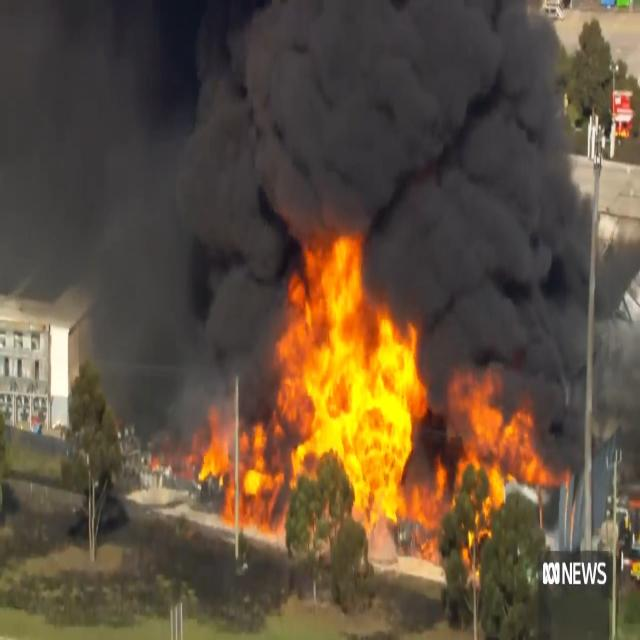fire: (181, 219, 557, 612)
